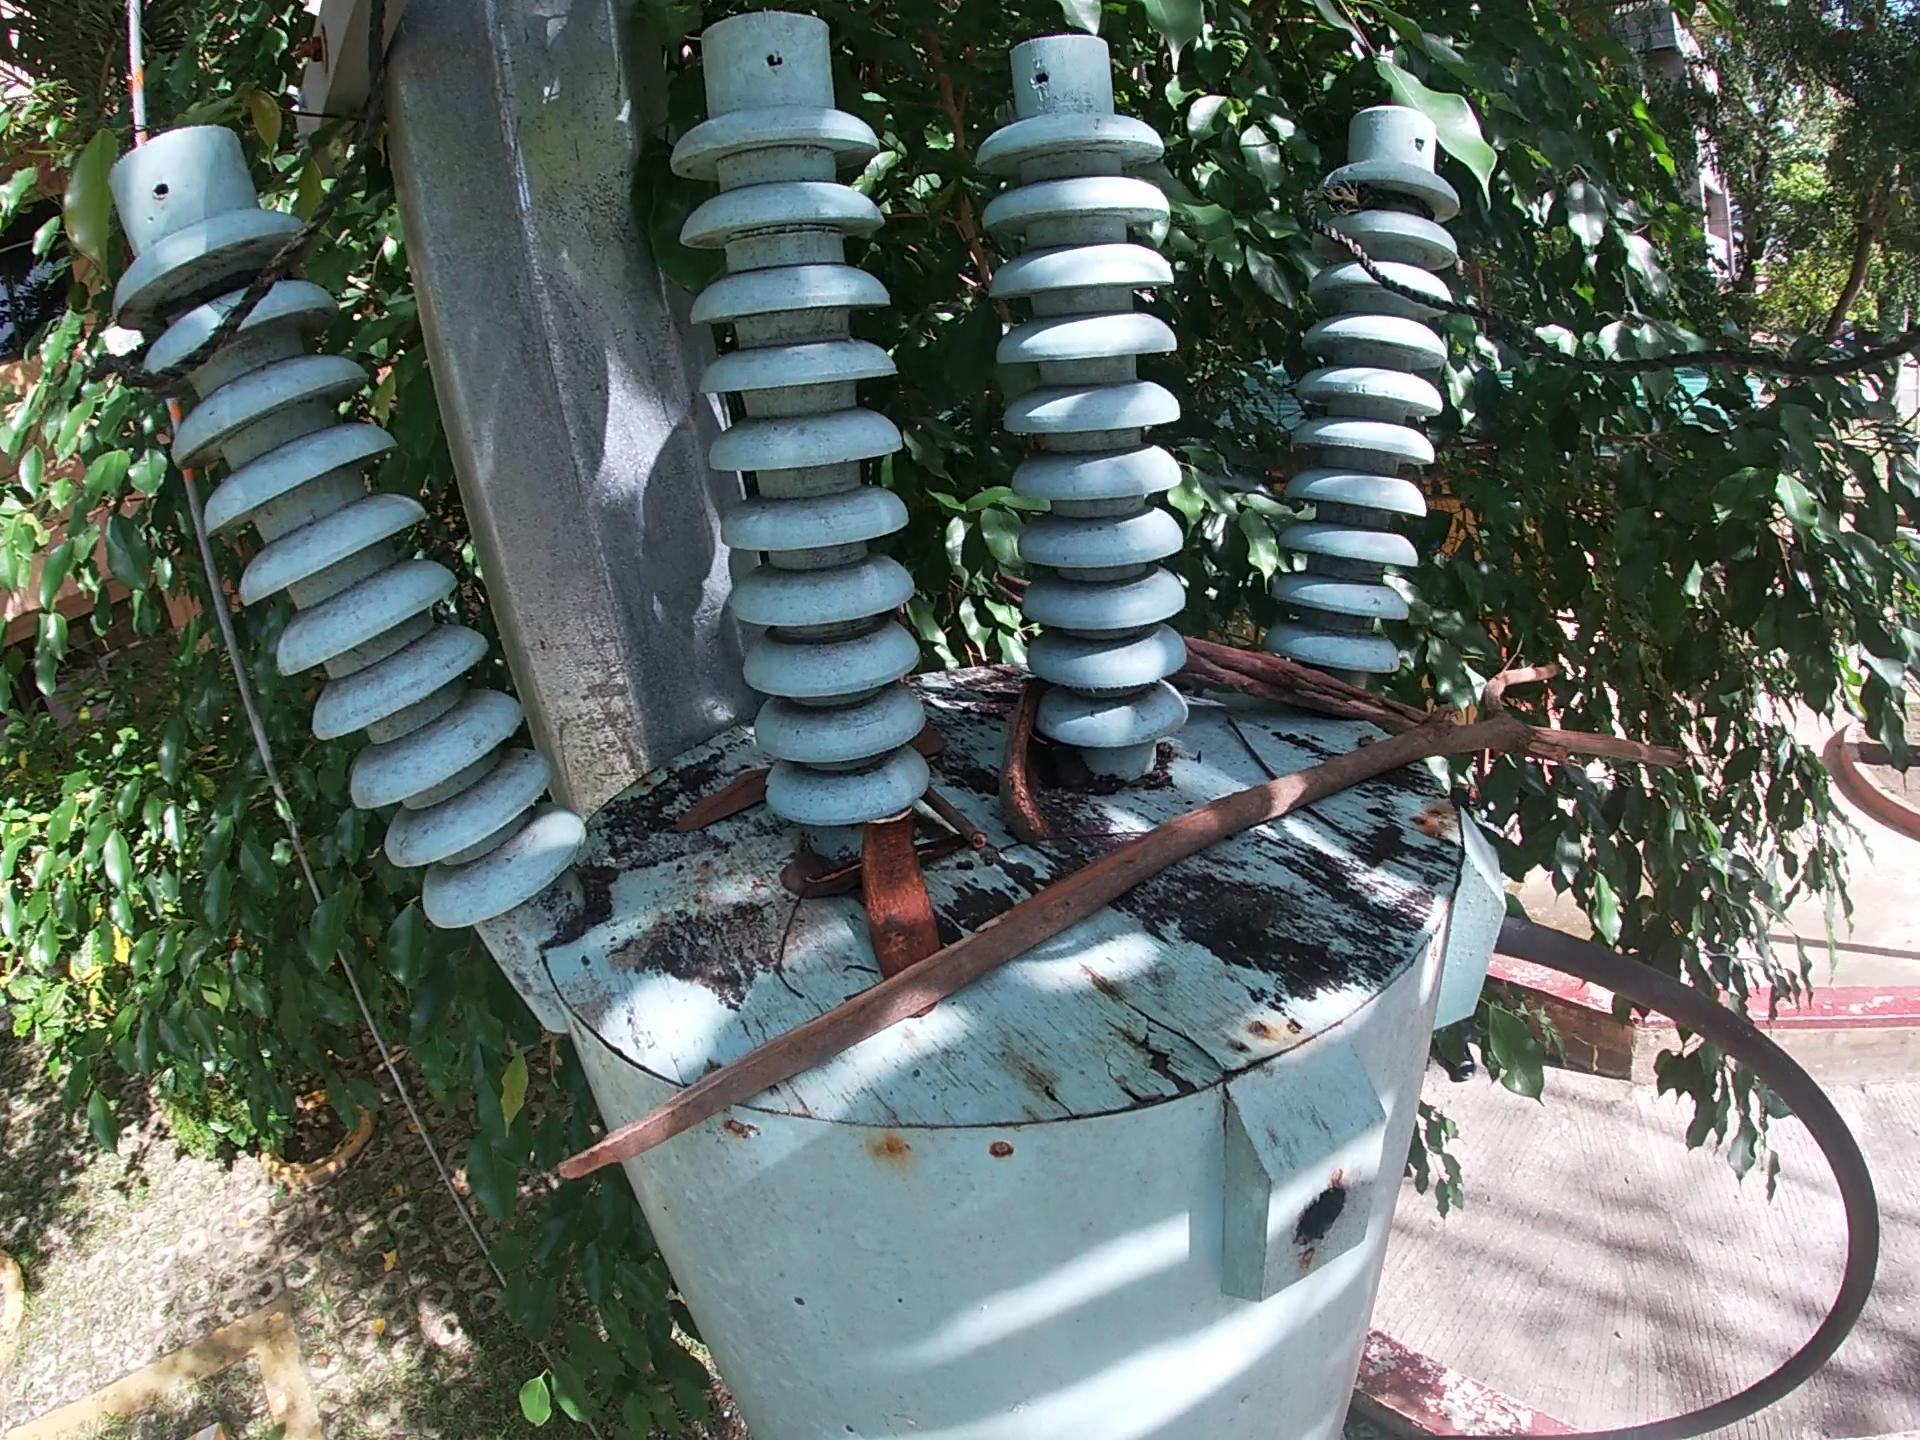leaf: (665, 759, 777, 841), (909, 709, 949, 768)
mahogany fruit: (850, 805, 949, 985), (986, 673, 1057, 847)
tree branch: (546, 653, 1695, 1187), (1175, 628, 1562, 758), (928, 793, 993, 861)
